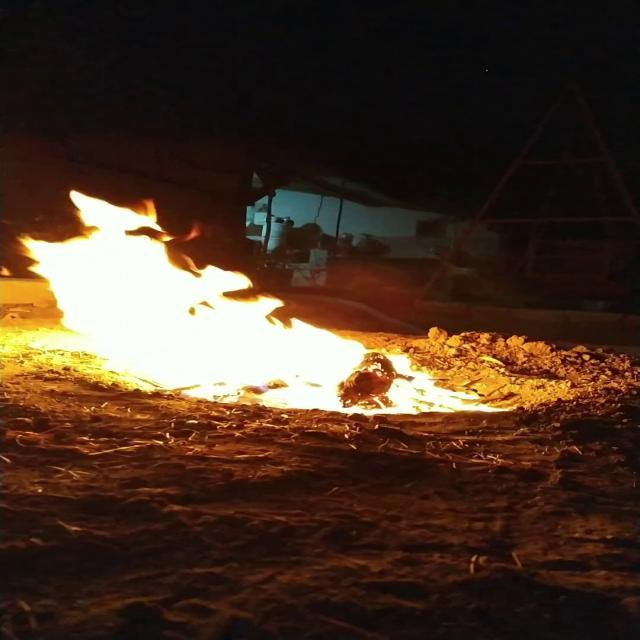Fire: (2, 184, 480, 406)
